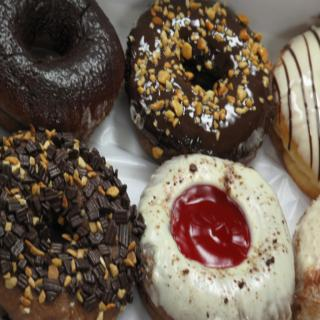Doughnut: (0, 0, 319, 319), (135, 153, 294, 319)
